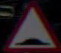Speed Breaker ahead: (6, 3, 52, 48)
